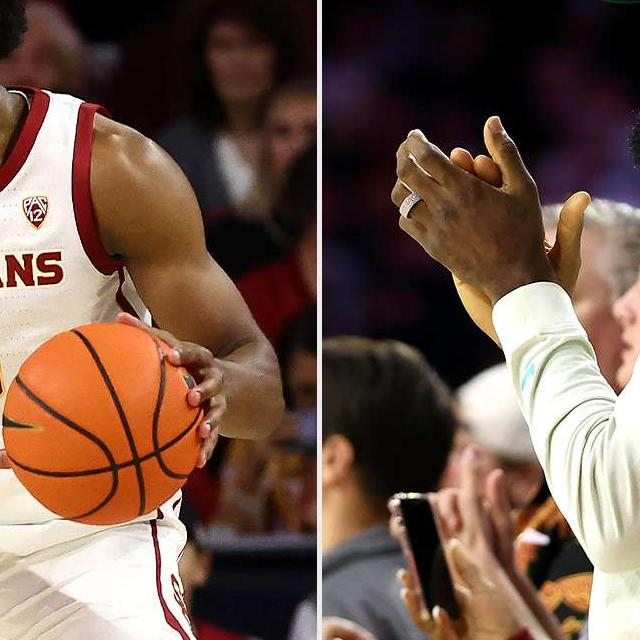basketball: (0, 318, 211, 522)
